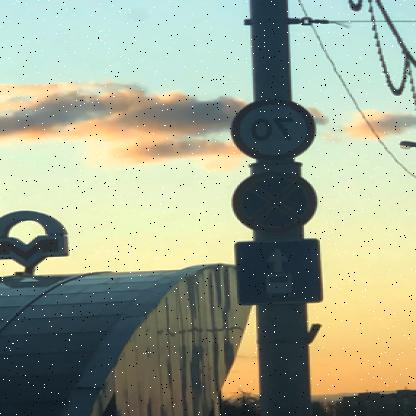speedlimit: (231, 98, 317, 159)
